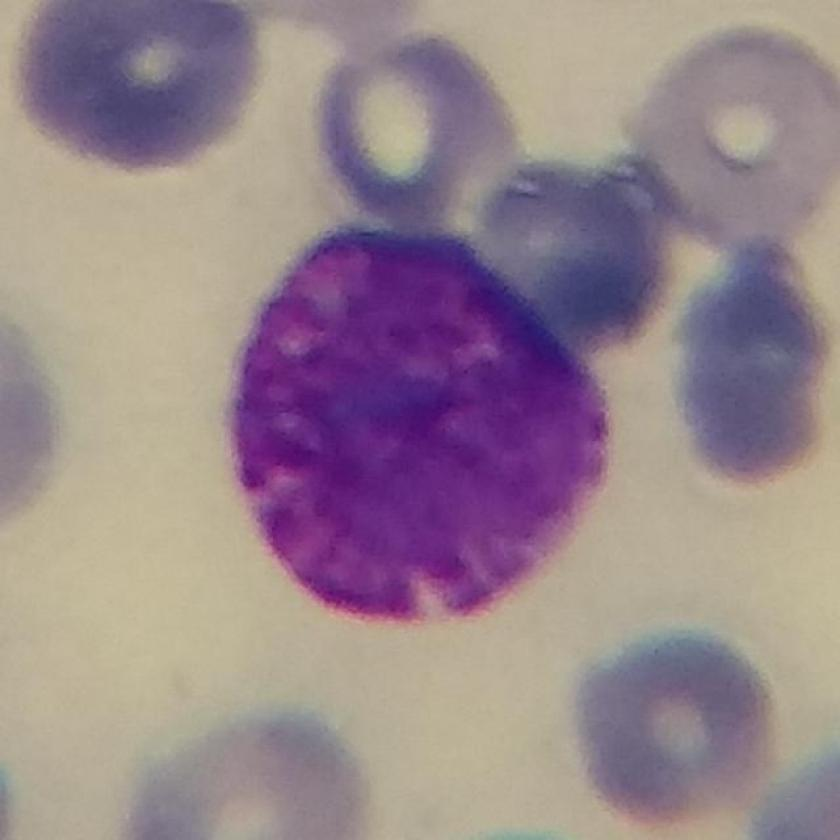basophil: (222, 221, 619, 629)
